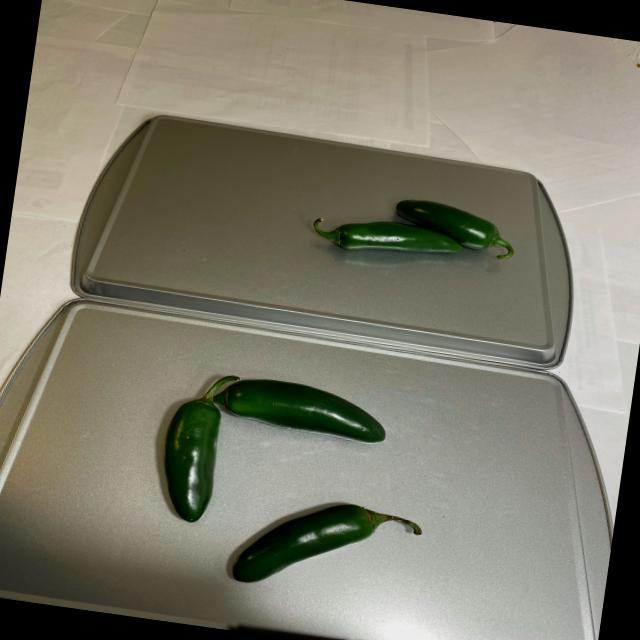chilli: (113, 358, 452, 614), (296, 180, 528, 286)
